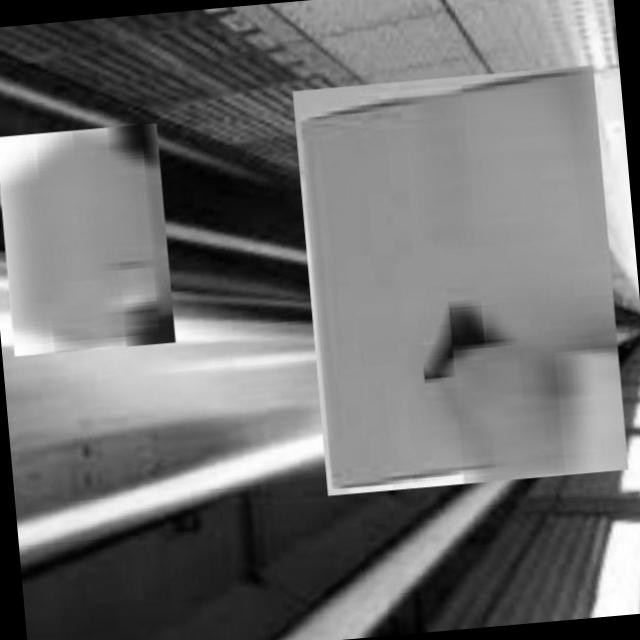box: (287, 56, 635, 502), (0, 118, 179, 359)
